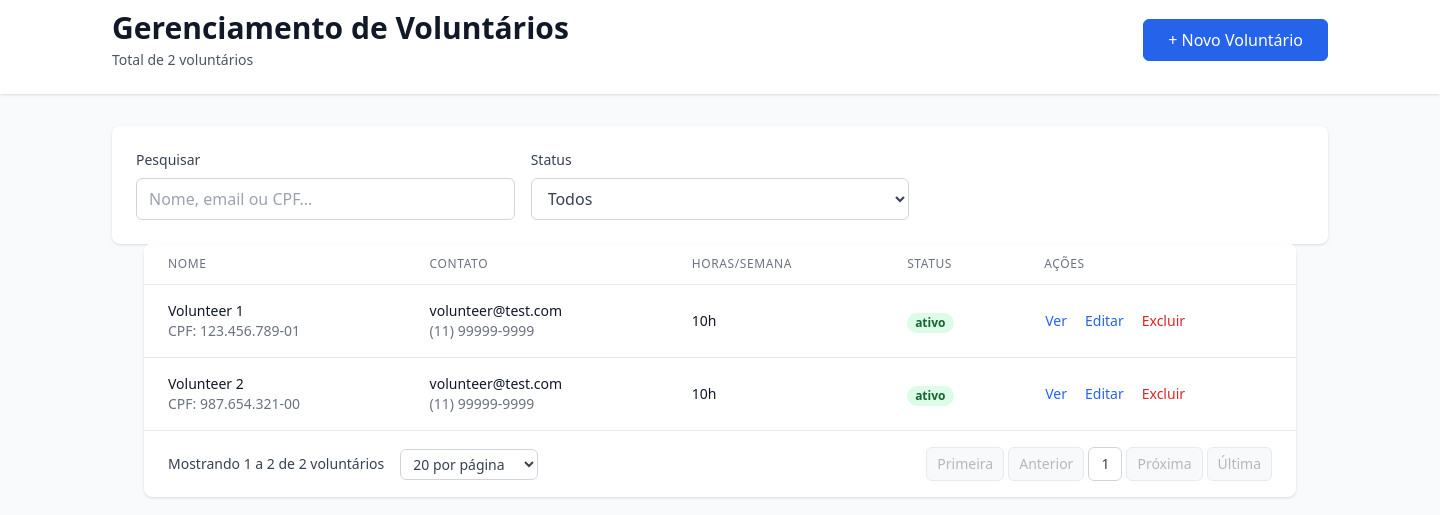
Test: ONGVolunteersPage › Filtering › should filter volunteers by search term (CPF)
This screenshot has width=1440, height=515.
Expected: the text "Volunteer 1" is shown, [168, 301, 244, 320]
Step 1. Type "123456" into the field with placeholder "Nome, email ou CPF..." → [325, 199], box [136, 178, 515, 220]
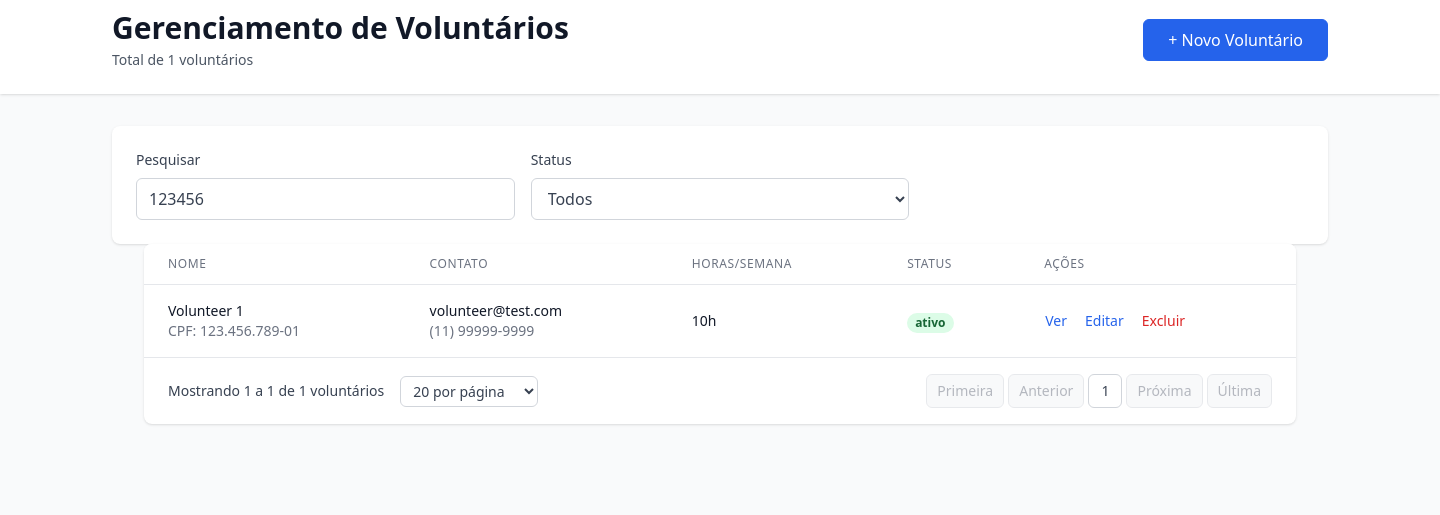
Expected: the text "Volunteer 1" is shown, [168, 301, 244, 320]
Now the text "Volunteer 2" is gone
